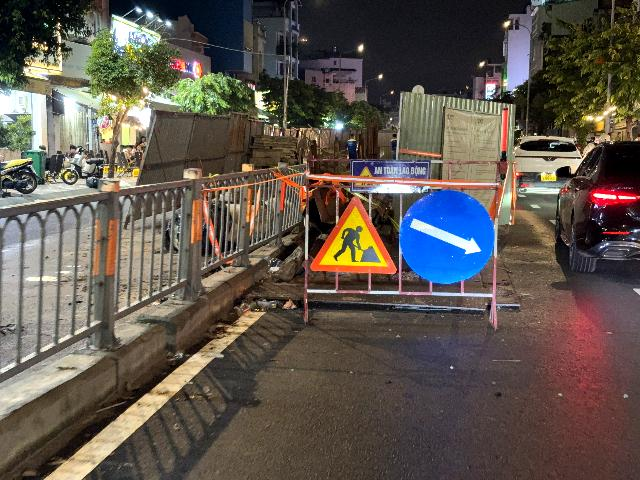cong-truong-dang-thi-cong: (310, 195, 397, 274)
huong-phai-di-vong-chuong-ngai-vat: (399, 189, 495, 284)
